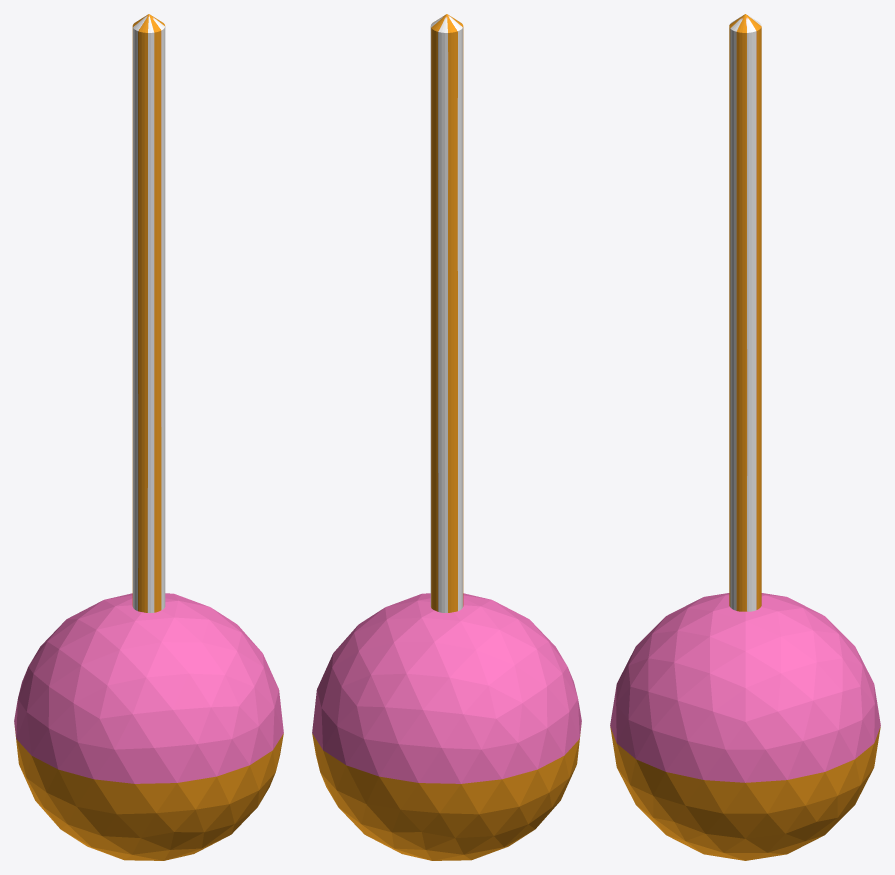
Rendered from hummer_ball_2.fbx.
The picture shows the model from 3 angles, left to right: view 1: azimuth 30°, elevation 25°; view 2: azimuth 150°, elevation 25°; view 3: azimuth 270°, elevation 25°; orthographic projection.
Visible parts, largest first — view 1: 棱角球.001; view 2: 棱角球.001; view 3: 棱角球.001.
Part boxes in pixels (x1,y1,x2,y2): 棱角球.001: (14, 14, 283, 860); 棱角球.001: (312, 14, 581, 860); 棱角球.001: (610, 14, 880, 860).
Bounding box in the file's own units: 400 × 1360 × 400.
